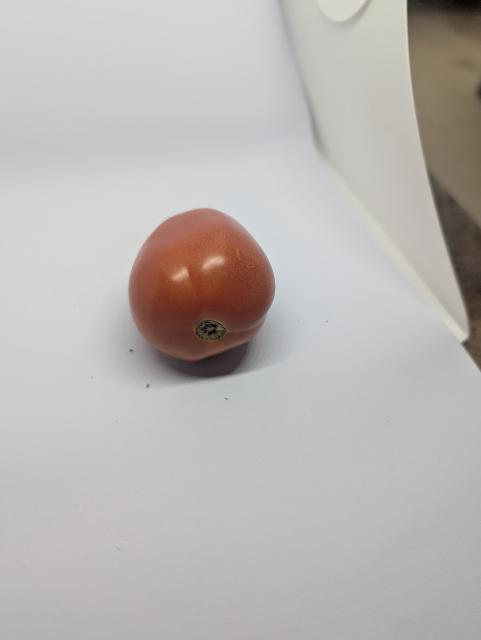red: (127, 206, 280, 365)
